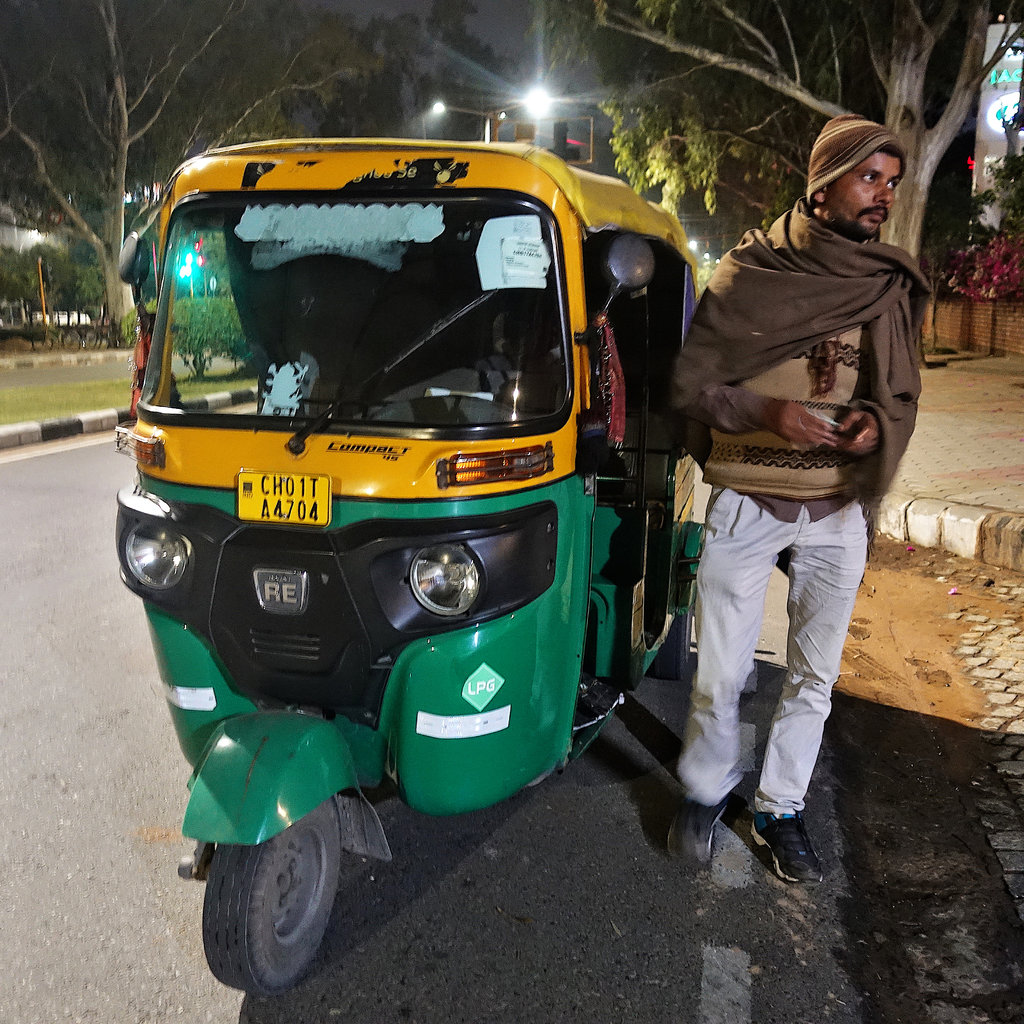doublelinenumberplate: (232, 464, 333, 527)
